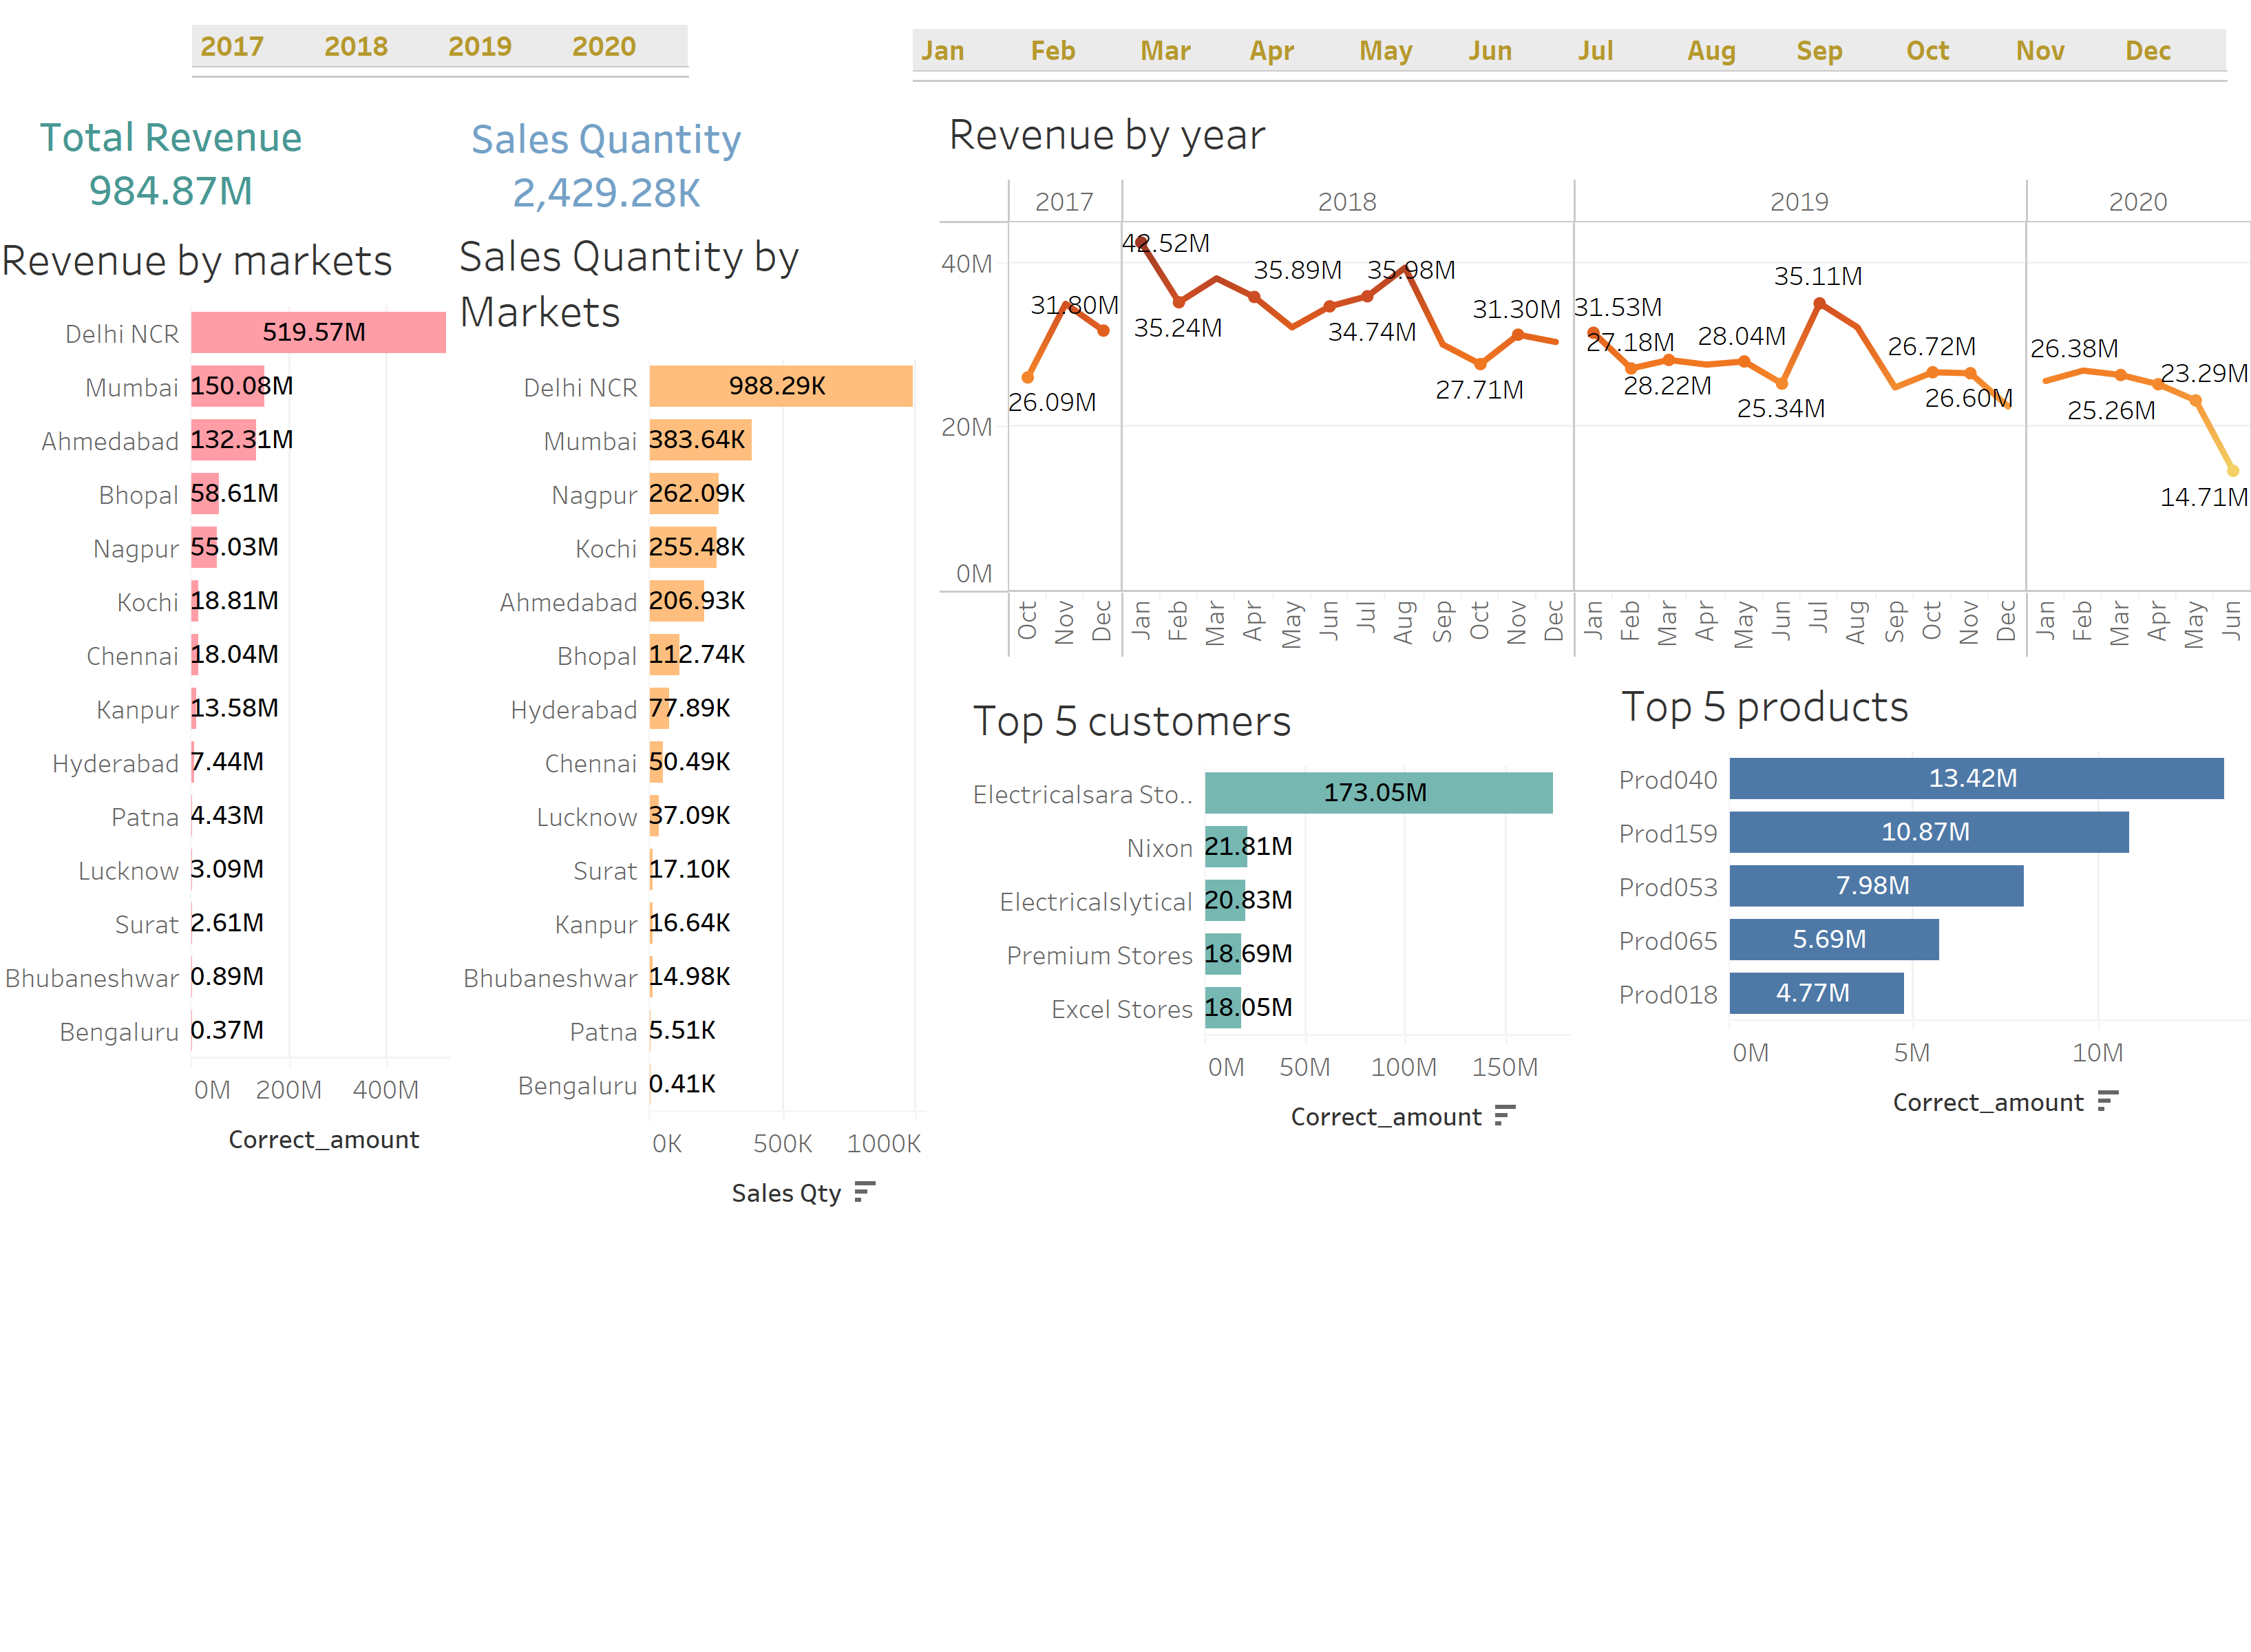

The page's visual inventory and layout, read from the dashboard file:
{"tool":"tableau","page":{"name":"Dashboard Revenue Analysis","canvas":[1090,800],"ordinal":1},"visuals":[{"type":"worksheet","title":"Revenue","mark":"Automatic","box":[13,38,167,71]},{"type":"worksheet","title":"Quantity","mark":"Automatic","box":[224,39,170,68]},{"type":"worksheet","title":"Revenue by year","mark":"Automatic","rows":["Calculation_267401277684969472"],"cols":["cy_date","cy_date"],"box":[455,44,636,275]},{"type":"worksheet","title":"Sales Quantity by Markets","mark":"Automatic","rows":["markets_name"],"cols":["sales_qty"],"box":[218,103,230,496]},{"type":"worksheet","title":"Top 5 products","mark":"Automatic","rows":["product_code (products)"],"cols":["Calculation_267401277684969472"],"box":[781,321,308,233]},{"type":"worksheet","title":"Top 5 customers","mark":"Automatic","rows":["custmer_name"],"cols":["Calculation_267401277684969472"],"box":[467,328,293,231]}]}

Visuals, with their boxes in screenshot pixels (x1, y1, x2, y2), scaled from the page's 1090x800 canvas onto the 2251x1652 screenshot:
"Revenue" worksheet: (x1=27, y1=78, x2=372, y2=225)
"Quantity" worksheet: (x1=463, y1=81, x2=814, y2=221)
"Revenue by year" worksheet: (x1=940, y1=91, x2=2250, y2=659)
"Sales Quantity by Markets" worksheet: (x1=450, y1=213, x2=925, y2=1237)
"Top 5 products" worksheet: (x1=1613, y1=663, x2=2249, y2=1144)
"Top 5 customers" worksheet: (x1=964, y1=677, x2=1570, y2=1154)
